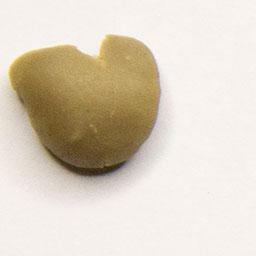defect: (6, 30, 164, 173)
